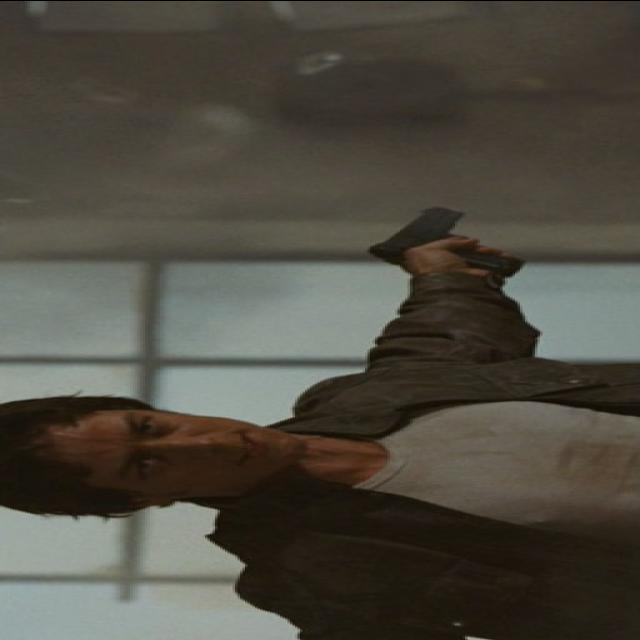weapons: (352, 196, 536, 286)
